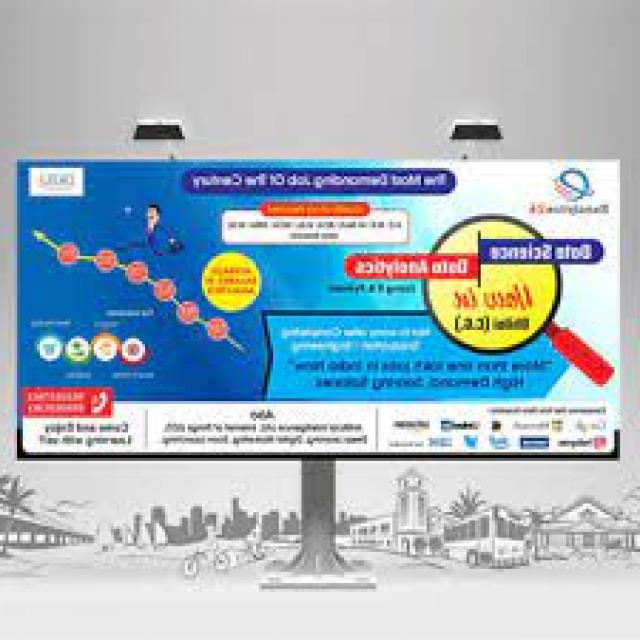Werbetafel frei: (14, 159, 623, 455)
